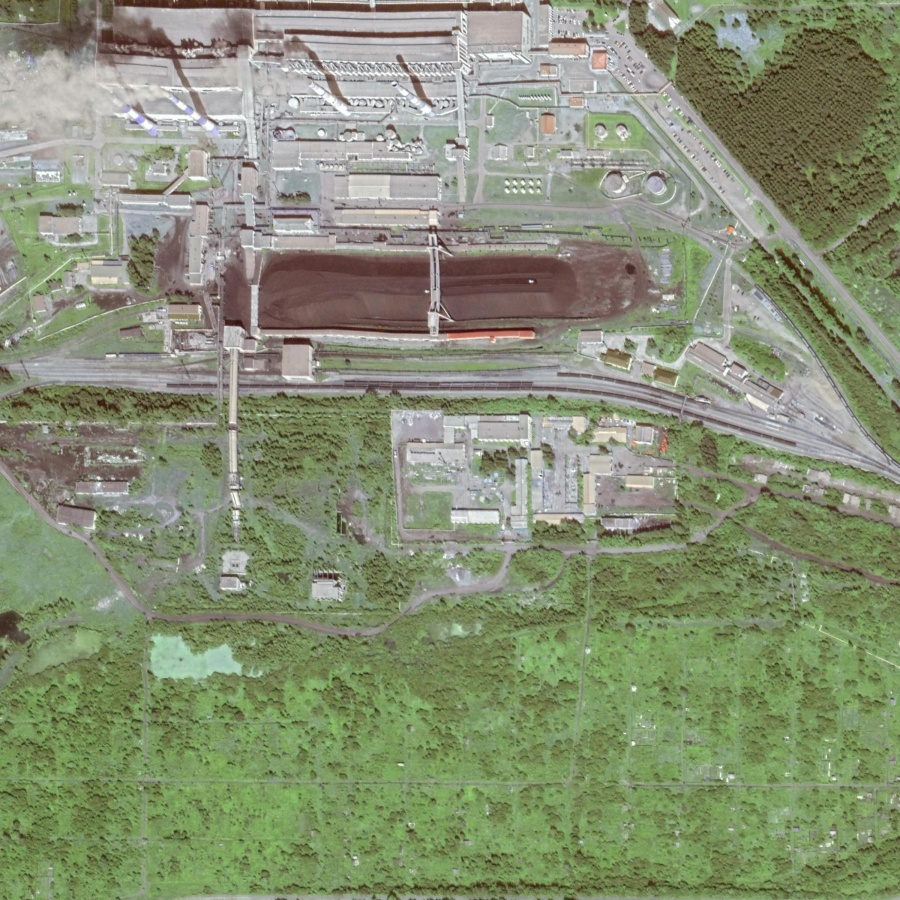PowerPlant: (71, 3, 670, 345)
